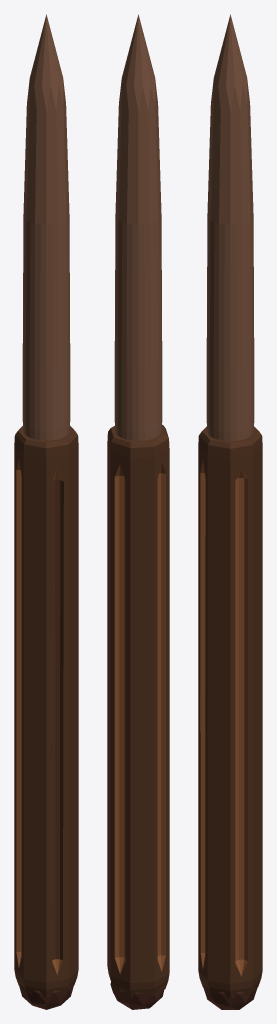
Rendered from Wand 500.glb.
3 views of the same model, side by side, from view 1: azimuth 90°, elevation 25°; view 2: azimuth 210°, elevation 25°; view 3: azimuth 270°, elevation 25° (orthographic).
Parts seen in each view (by area): view 1: GeneratedWand; view 2: GeneratedWand; view 3: GeneratedWand.
Boxes of the visible parts, x1,y1,x2,y2 form: GeneratedWand: (14, 14, 78, 1009); GeneratedWand: (107, 14, 169, 1009); GeneratedWand: (198, 14, 262, 1009).
Bounding box in the file's own units: 0.0289 × 0.4933 × 0.0289.
